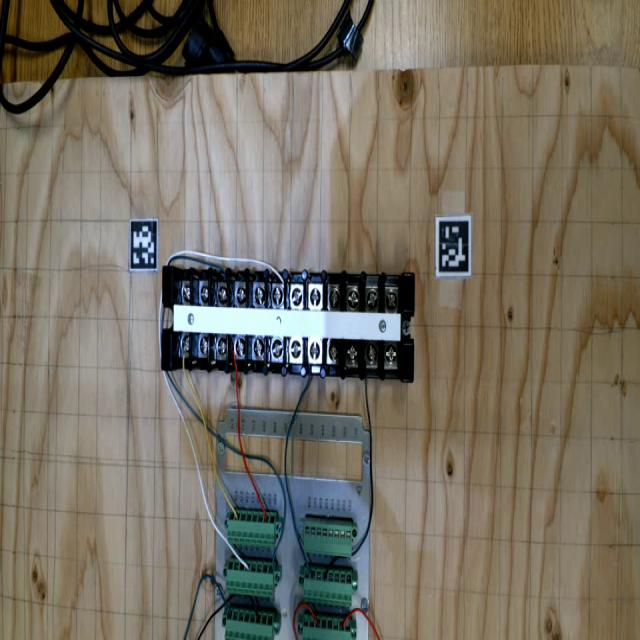Phillips_Block: (157, 261, 418, 382)
Terminal_2: (300, 565, 355, 607), (227, 509, 277, 548), (225, 559, 275, 597), (225, 607, 274, 640), (302, 614, 351, 639)
